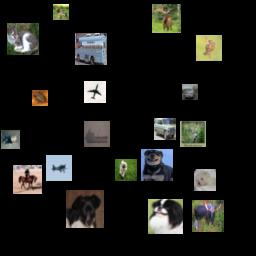airplane: (46, 155, 72, 181), (84, 81, 106, 103)
automobile: (154, 118, 176, 140), (182, 84, 198, 100)
bird: (196, 35, 222, 61)
cat: (7, 23, 39, 55)
deer: (192, 200, 224, 232), (152, 4, 181, 33), (180, 121, 206, 147), (53, 4, 69, 20)
dog: (66, 190, 104, 228), (148, 199, 183, 234), (141, 149, 173, 181), (115, 159, 137, 181), (194, 169, 216, 191), (1, 130, 20, 149)
frog: (32, 90, 48, 106)
ship: (84, 121, 110, 147)
truck: (75, 33, 107, 65)
